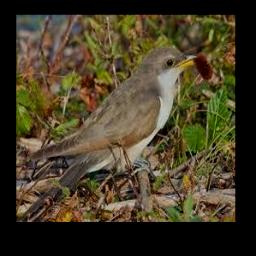Cuckoo: (19, 47, 198, 222)
